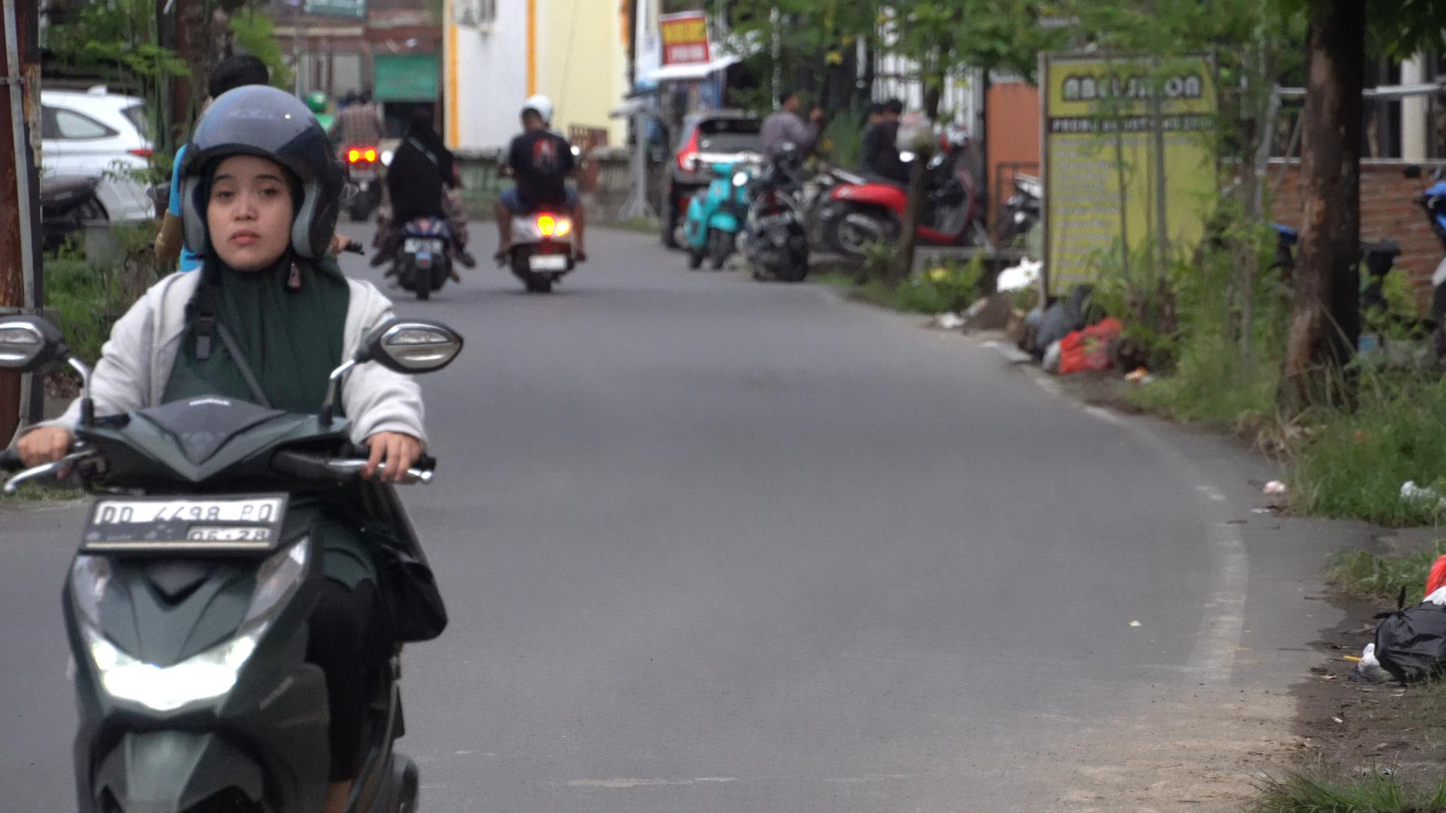number-plate: (77, 494, 286, 553)
